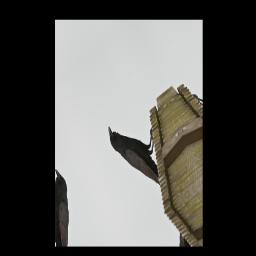Crow: (105, 101, 173, 206)
